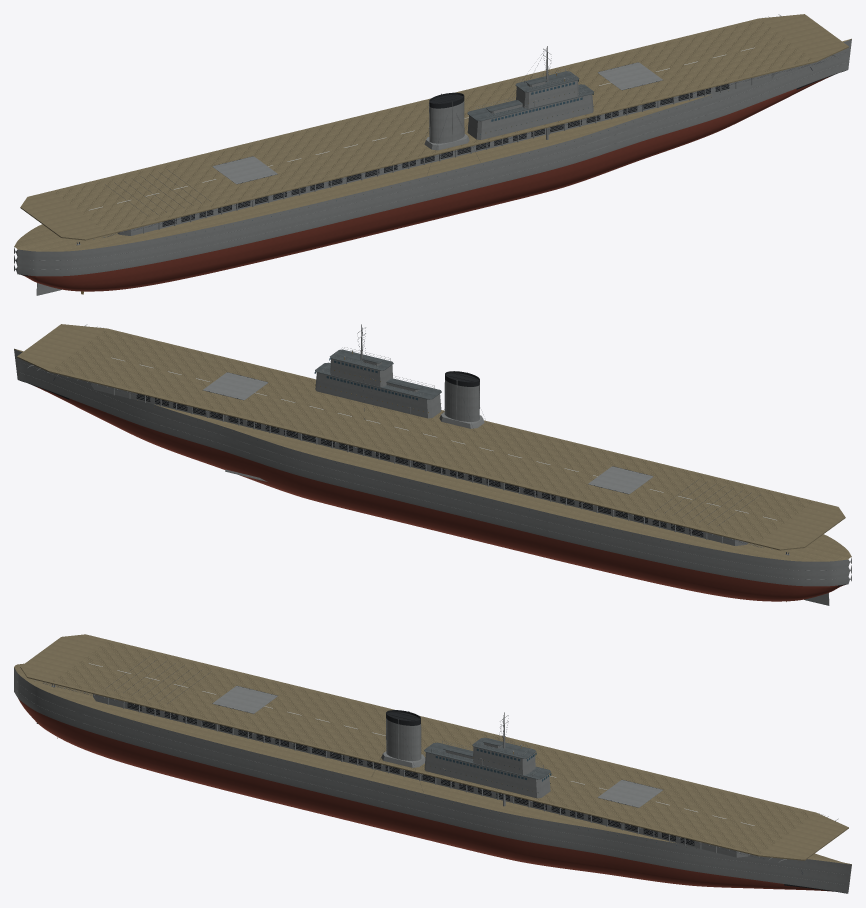
The model's file is unryu_t32.glb.
The picture shows the model from 3 angles, top to bottom: view 1: azimuth 30°, elevation 25°; view 2: azimuth 150°, elevation 25°; view 3: azimuth 330°, elevation 25°; orthographic projection.
Visible parts, largest first — view 1: Unryū class; view 2: Unryū class; view 3: Unryū class.
Boxes of the visible parts, x1=… form: Unryū class: x1=14, y1=14, x2=851, y2=295; Unryū class: x1=14, y1=324, x2=851, y2=605; Unryū class: x1=14, y1=634, x2=851, y2=893.
Bounding box in the file's own units: 236 × 40.08 × 29.73.
Materials: 9 (8 with a texture image).
